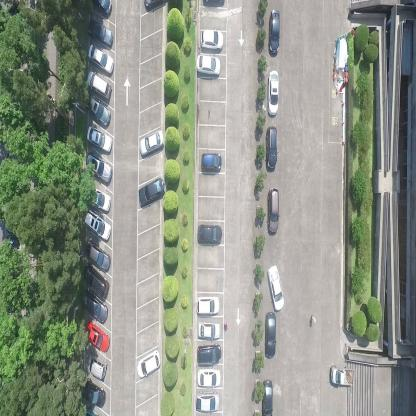car: (82, 263, 109, 301), (80, 288, 108, 324), (83, 206, 111, 242), (84, 152, 113, 185), (266, 263, 285, 312), (83, 239, 111, 272), (84, 68, 112, 101), (87, 42, 115, 75), (138, 175, 164, 209), (86, 16, 113, 48), (84, 319, 110, 352), (136, 346, 161, 380), (86, 92, 110, 126), (86, 125, 112, 156), (139, 129, 164, 159), (82, 378, 106, 409), (87, 183, 111, 213), (85, 352, 108, 381), (329, 363, 355, 388), (268, 8, 281, 56), (196, 53, 220, 79), (267, 68, 279, 119), (265, 126, 278, 172), (197, 224, 223, 246), (200, 28, 224, 51), (268, 186, 279, 236), (195, 294, 220, 316), (195, 391, 220, 413), (196, 343, 222, 364), (265, 311, 276, 359), (197, 368, 222, 389), (197, 320, 221, 340), (200, 151, 221, 173), (262, 378, 274, 415), (90, 0, 113, 16)
